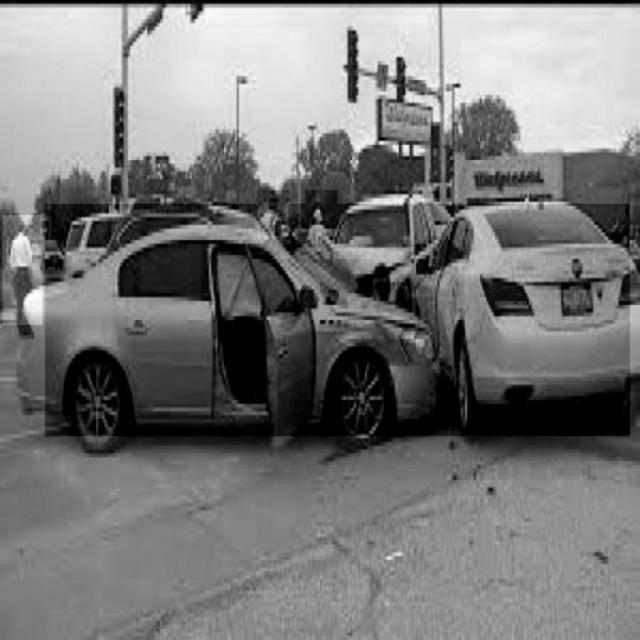accident: (46, 204, 630, 436)
person: (3, 215, 44, 325), (306, 190, 338, 260), (258, 191, 288, 238)
